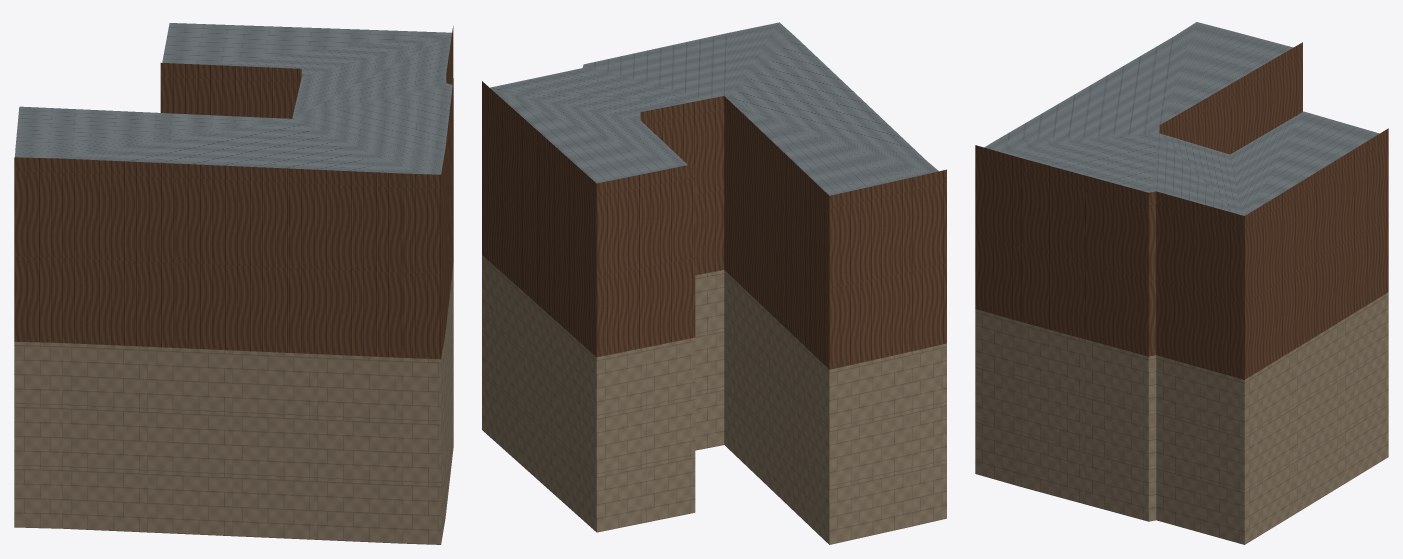
File: bld_c41_-47_457.gltf
3 renders of one model, left to right at view 1: azimuth 30°, elevation 25°; view 2: azimuth 150°, elevation 25°; view 3: azimuth 270°, elevation 25°, orthographic. The views are drawn at different scales.
Visible parts, largest first — view 1: bld_c41_-47_457; view 2: bld_c41_-47_457; view 3: bld_c41_-47_457.
Boxes of the visible parts, box(x1,y1,x2,y2) form: bld_c41_-47_457: box(14, 23, 453, 544); bld_c41_-47_457: box(482, 22, 946, 544); bld_c41_-47_457: box(975, 22, 1388, 544).
Bounding box in the file's own units: 13.15 × 9.98 × 11.37.
Materials: 4 (4 with a texture image).
